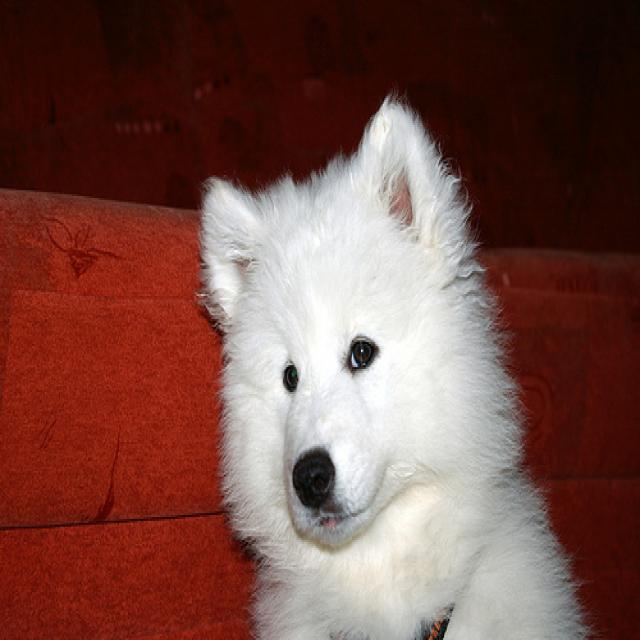dog-samoyed: (195, 79, 598, 636)
